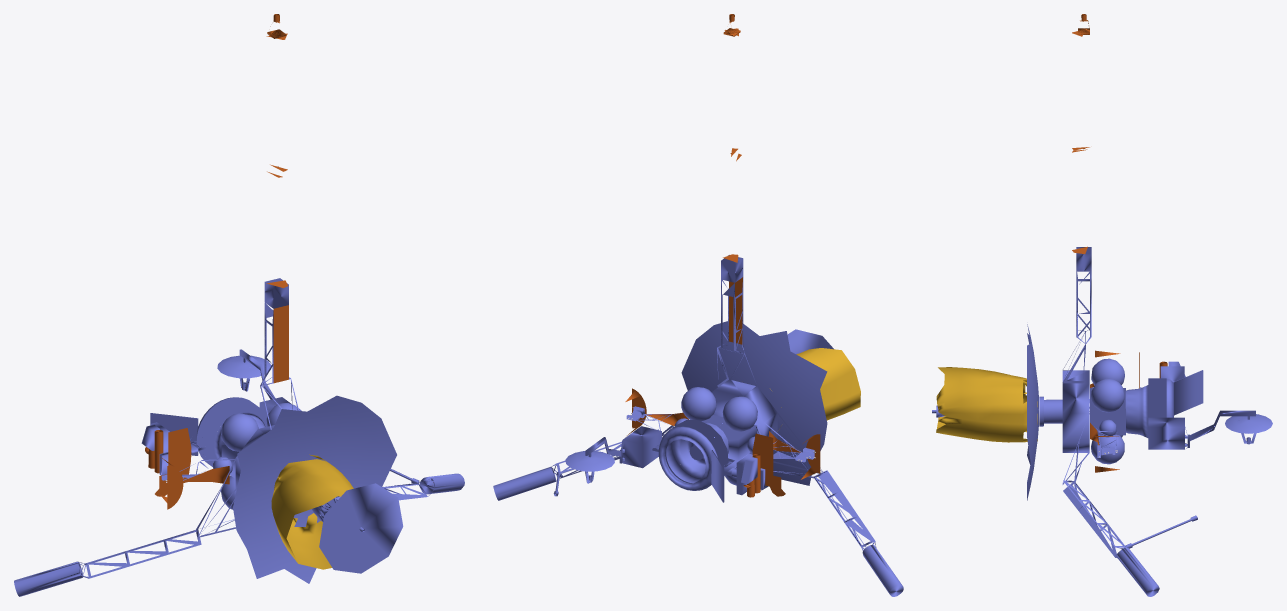
Rendered from galileo-craft.glb.
3 renders of one model, left to right at view 1: azimuth 30°, elevation 25°; view 2: azimuth 150°, elevation 25°; view 3: azimuth 270°, elevation 25°, orthographic. The views are drawn at different scales.
Visible parts, largest first — view 1: craft; view 2: craft; view 3: craft.
Part boxes in pixels (bbox=[...]): craft: bbox=[14, 14, 464, 596]; craft: bbox=[493, 14, 903, 596]; craft: bbox=[932, 14, 1272, 596].
Size of the model in its own units: 9.19 by 10.9 by 6.89.
Materials: 1 (1 with a texture image).
